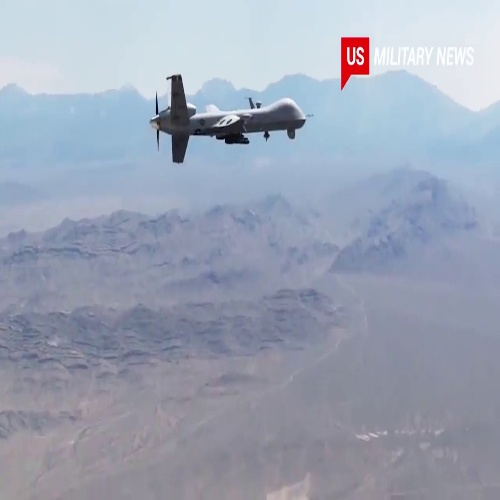uav: (150, 74, 308, 167)
